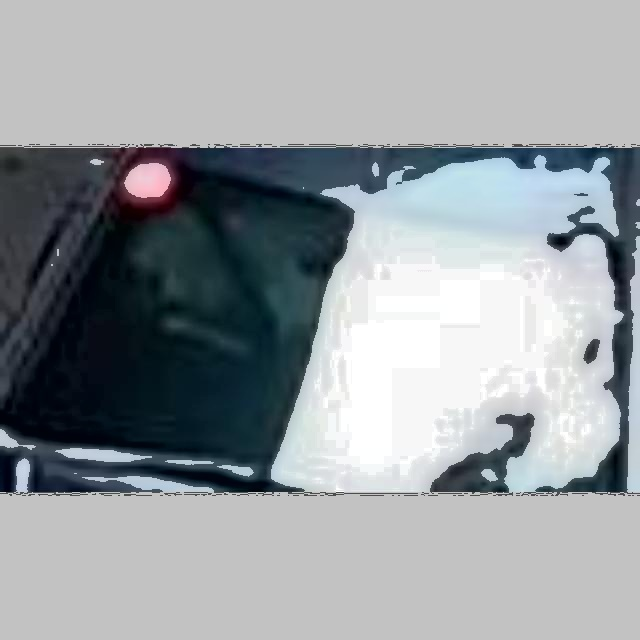pakai: (131, 203, 323, 361)
